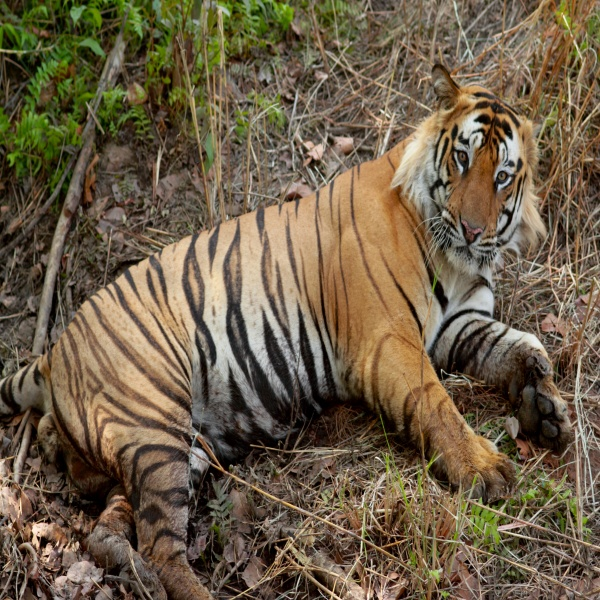Tiger: (3, 60, 578, 595)
